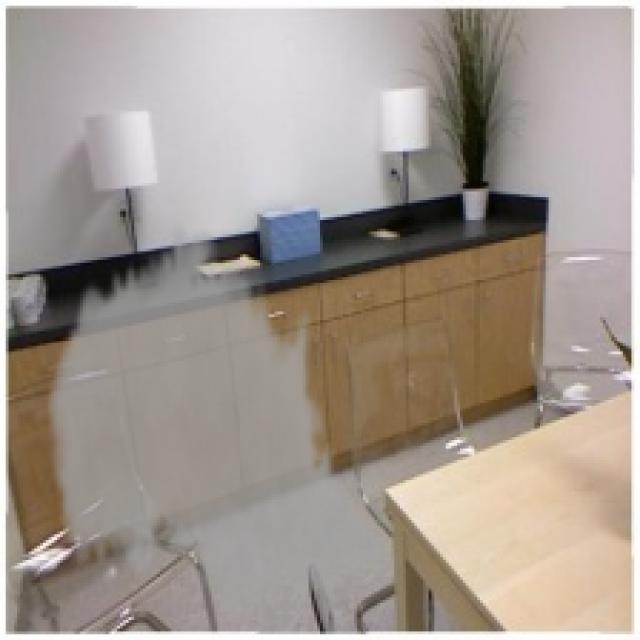Smoke: (43, 214, 386, 637)
